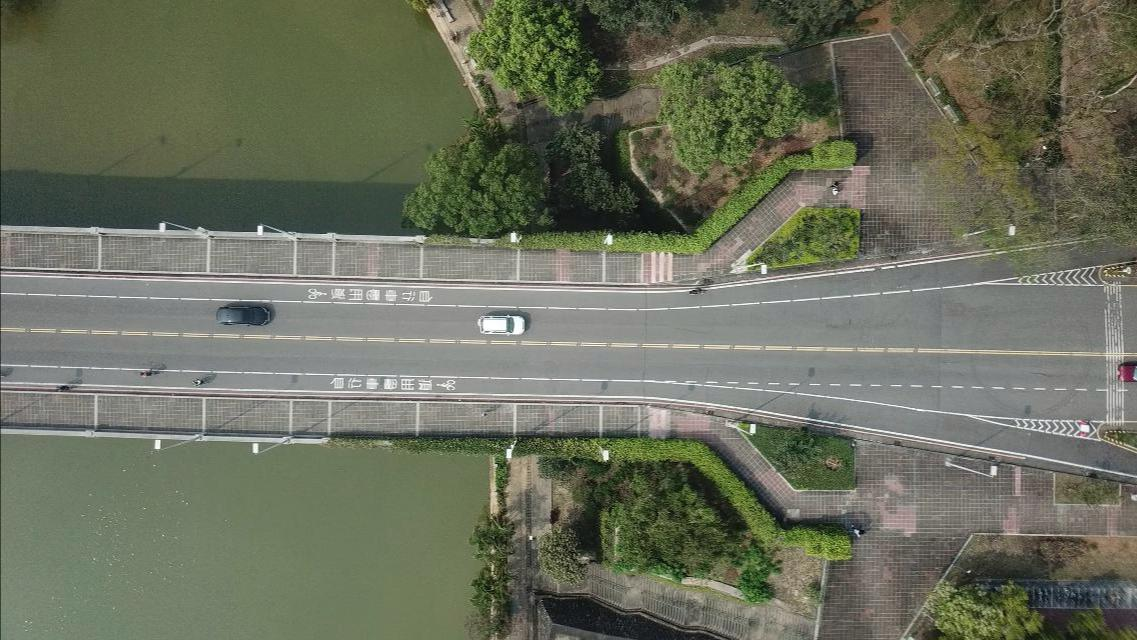vehicle: (218, 304, 272, 326), (477, 314, 525, 335), (1117, 363, 1136, 382)
